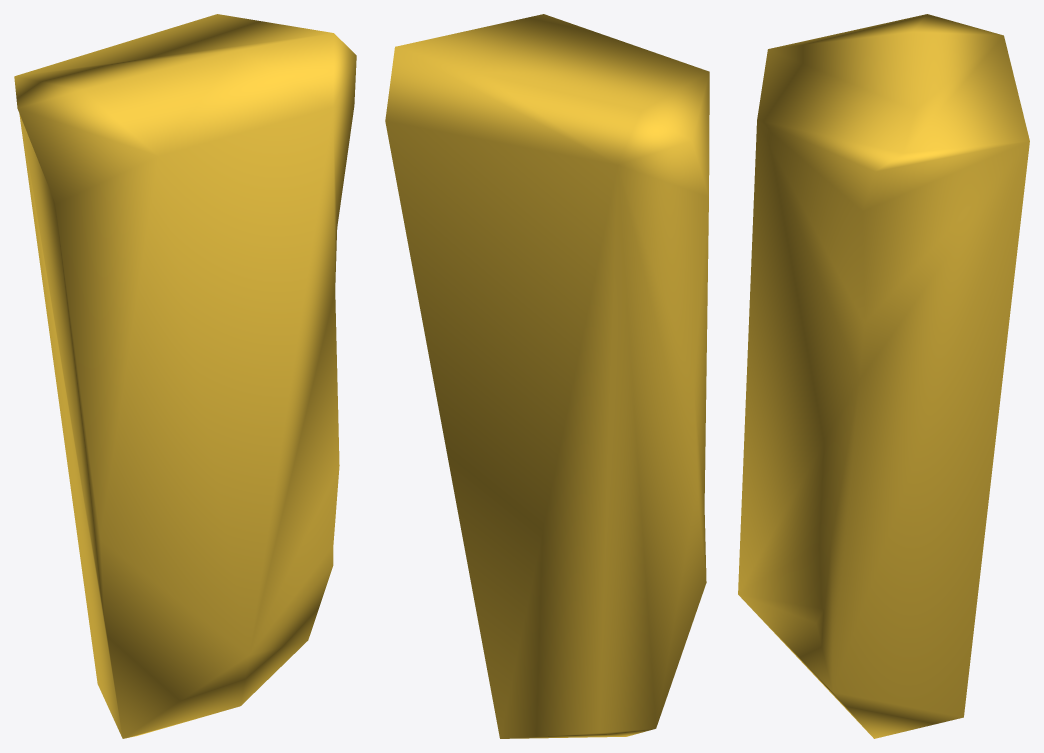
The model's file is Kiichan_leg_l.obj.
3 renders of one model, left to right at view 1: azimuth 30°, elevation 25°; view 2: azimuth 150°, elevation 25°; view 3: azimuth 270°, elevation 25°, orthographic.
Parts seen in each view (by area): view 1: YELLOW_LEG_L; view 2: YELLOW_LEG_L; view 3: YELLOW_LEG_L.
Part boxes in pixels (bbox=[...]): YELLOW_LEG_L: bbox=[14, 14, 356, 738]; YELLOW_LEG_L: bbox=[385, 14, 709, 738]; YELLOW_LEG_L: bbox=[738, 14, 1029, 738].
Bounding box in the file's own units: 0.4056 × 0.7916 × 0.3263.
1 material, 1 textured.
